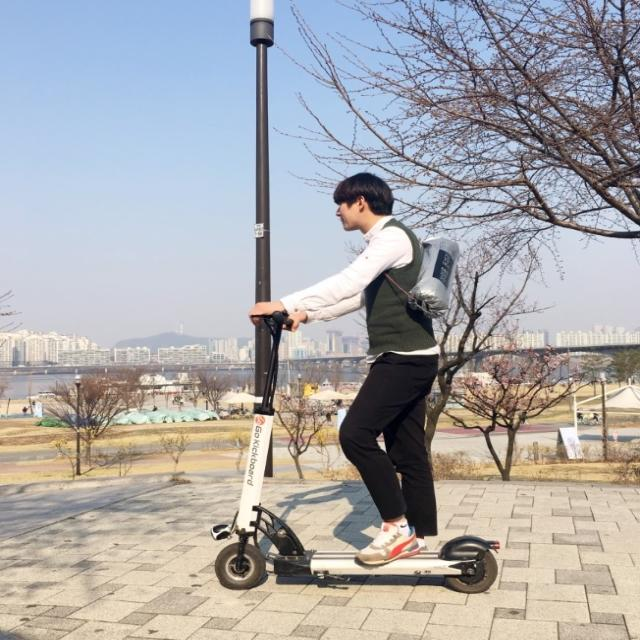non-helmet: (166, 130, 547, 618)
